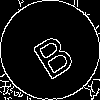B: (25, 25, 78, 81)
